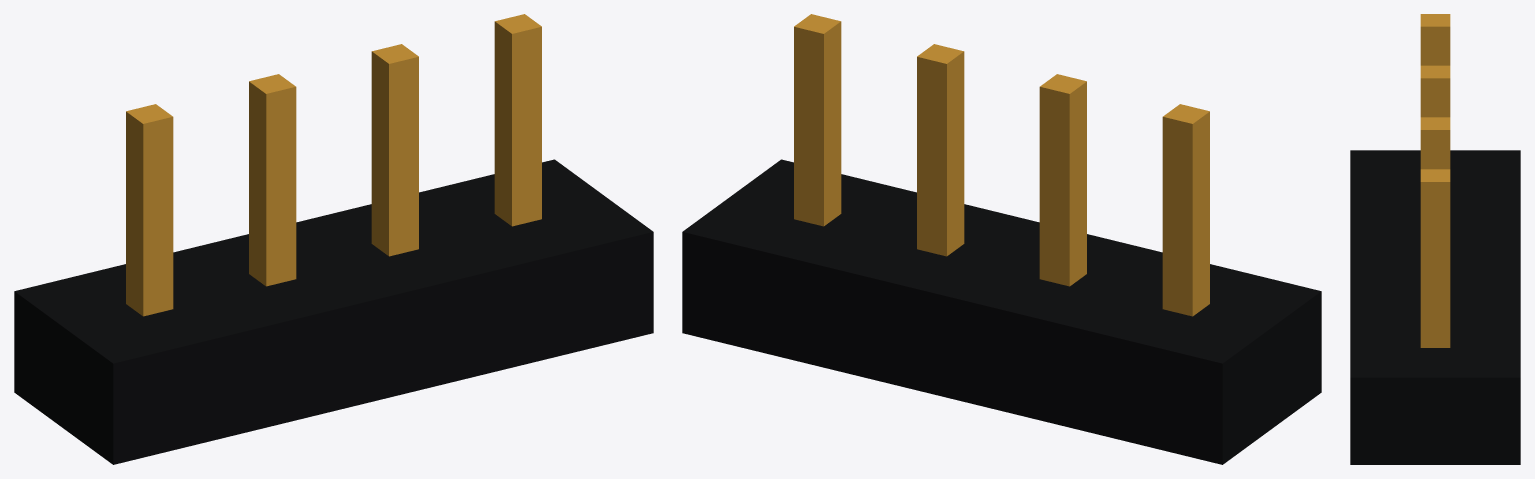
Rendered from L131_CPU_FAN2_WP.obj.
The picture shows the model from 3 angles, left to right: view 1: azimuth 30°, elevation 25°; view 2: azimuth 150°, elevation 25°; view 3: azimuth 270°, elevation 25°; orthographic projection. The views are drawn at different scales.
Visible parts, largest first — view 1: CPU_FAN2_WP_Black, CPU_FAN2_WP_Gold; view 2: CPU_FAN2_WP_Black, CPU_FAN2_WP_Gold; view 3: CPU_FAN2_WP_Black, CPU_FAN2_WP_Gold.
Part boxes in pixels (bbox=[...]): CPU_FAN2_WP_Black: bbox=[14, 159, 653, 464]; CPU_FAN2_WP_Gold: bbox=[126, 14, 541, 316]; CPU_FAN2_WP_Black: bbox=[682, 159, 1321, 464]; CPU_FAN2_WP_Gold: bbox=[794, 14, 1209, 316]; CPU_FAN2_WP_Black: bbox=[1350, 150, 1520, 464]; CPU_FAN2_WP_Gold: bbox=[1420, 14, 1450, 347].
Size of the model in its own units: 0.0112 by 0.0058 by 0.00354.
